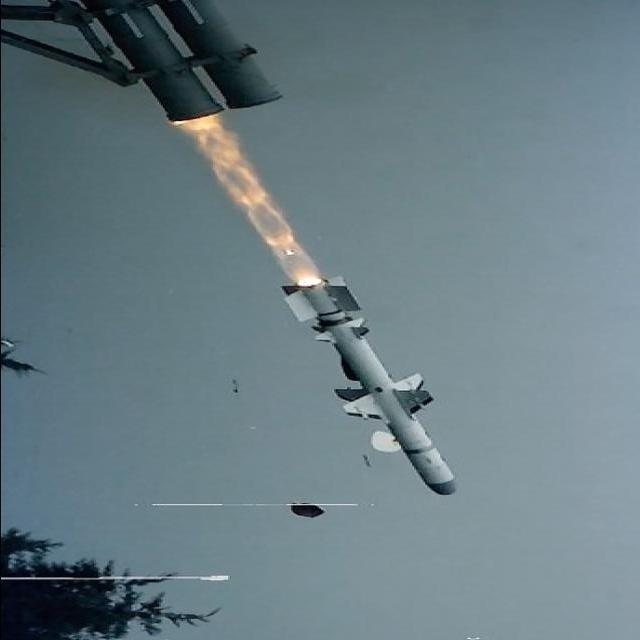missile: (282, 275, 468, 498)
